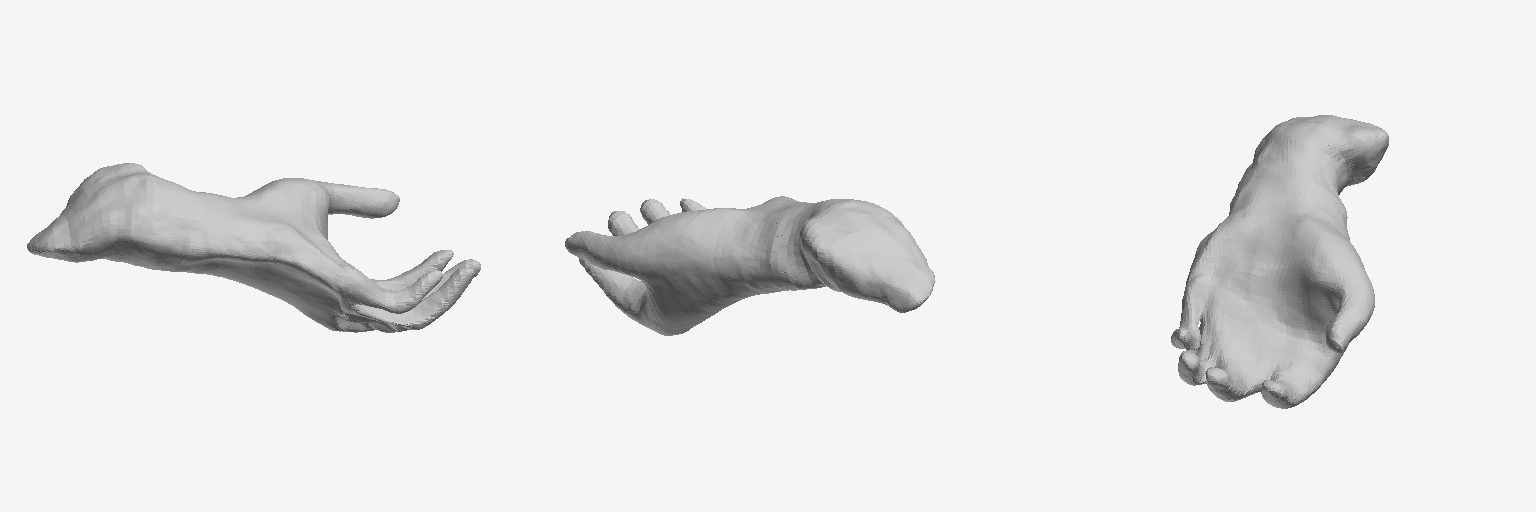
File: fg-00010-geo-color.obj
The picture shows the model from 3 angles: view 1: azimuth 30°, elevation 25°; view 2: azimuth 150°, elevation 25°; view 3: azimuth 270°, elevation 25°; orthographic projection.
Size of the model in its own units: 0.4642 by 0.2009 by 0.2272.